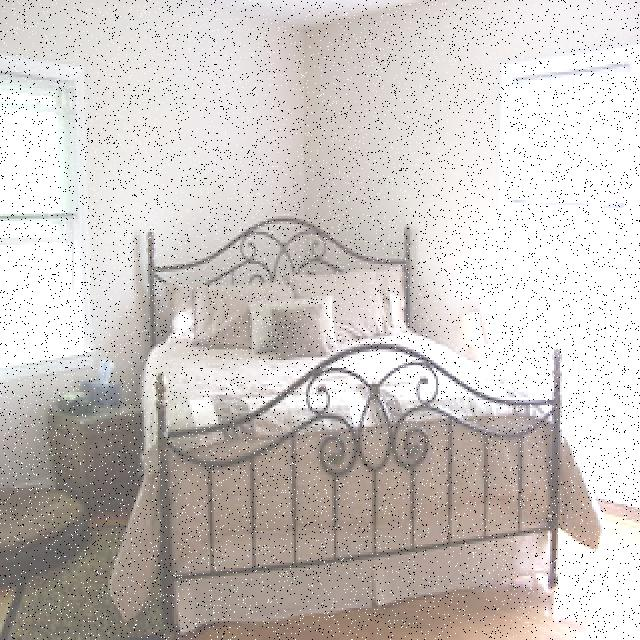bed: (144, 210, 566, 602)
